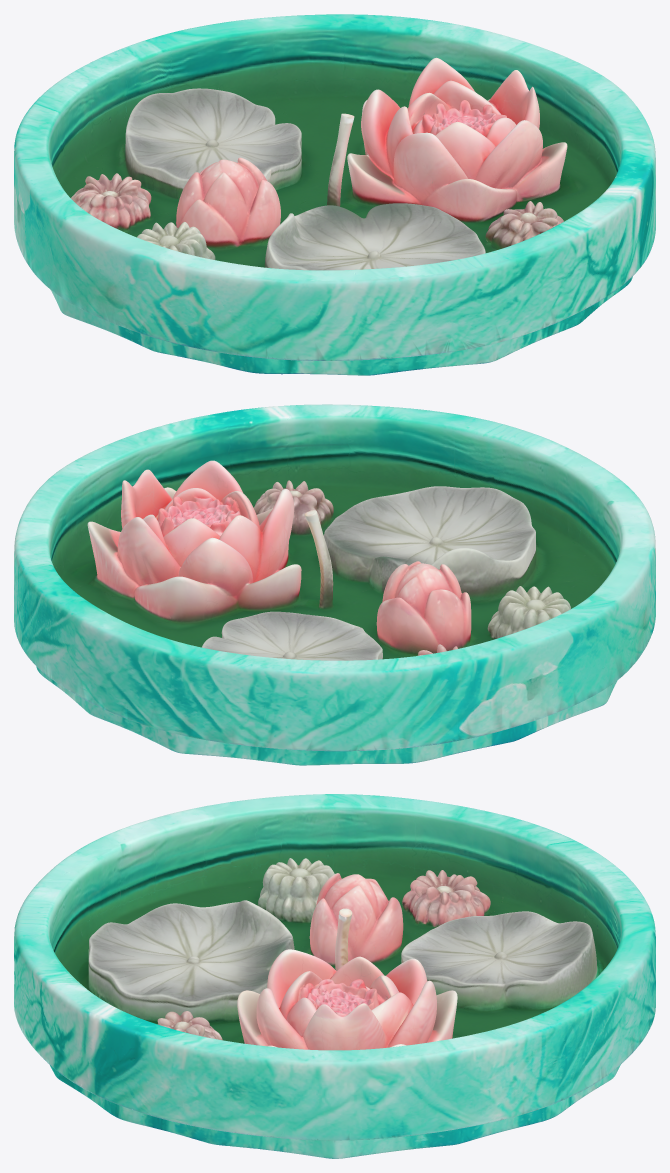
File: Nymphéa.glb
3 views of the same model, one above another, from view 1: azimuth 30°, elevation 25°; view 2: azimuth 150°, elevation 25°; view 3: azimuth 270°, elevation 25° (orthographic).
Parts seen in each view (by area): view 1: Mesh_0; view 2: Mesh_0; view 3: Mesh_0.
Boxes of the visible parts, <box> form: Mesh_0: <box>14,14,655,375</box>; Mesh_0: <box>14,404,655,765</box>; Mesh_0: <box>14,794,655,1158</box>.
Size of the model in its own units: 0.1379 by 0.03 by 0.138.
1 material, 1 textured.
